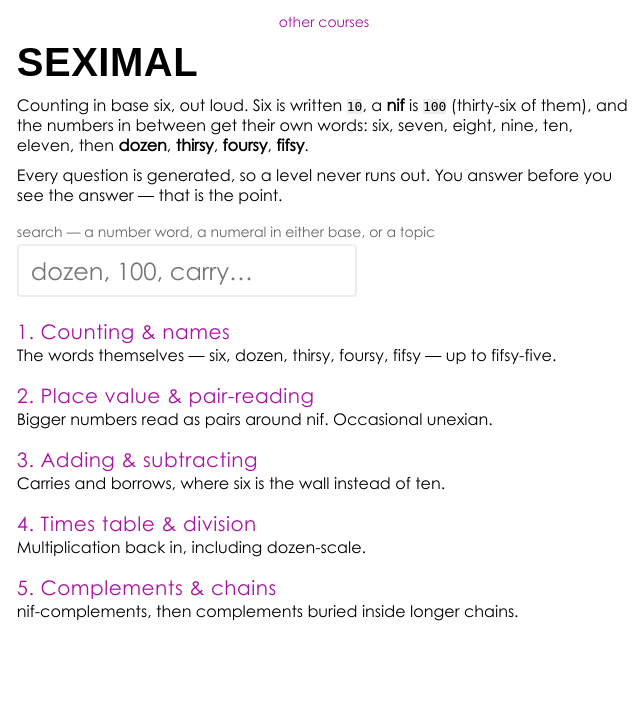
Test: seximal search › a word with nothing to add gets no second line
Type "unexian" into the field labelled "search — a number word, a numeral in either base, or a topic" at (187, 270), box [17,244,357,297]
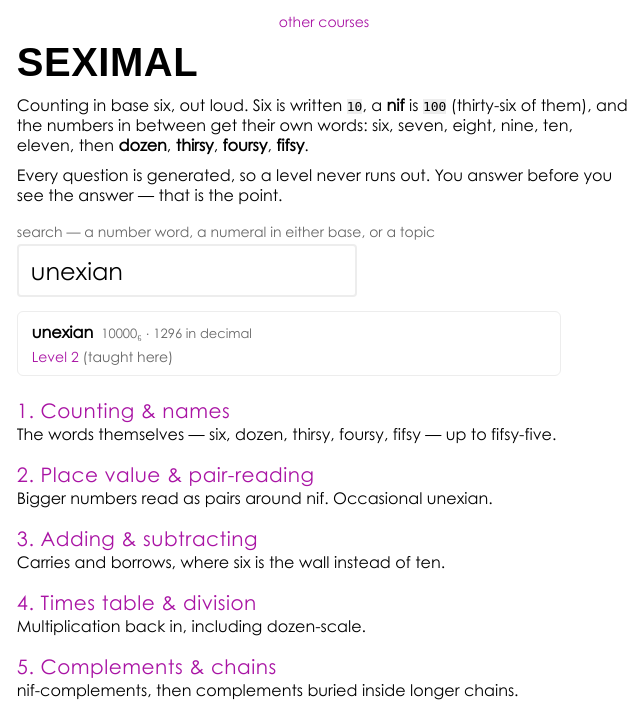
Now the number of elements with class "tp__search-levels" is 1, box [32,348,173,365]
